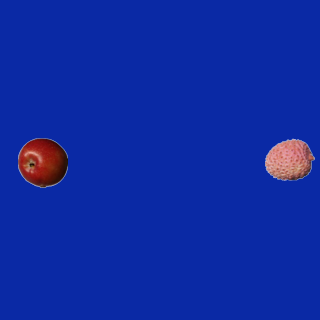Apple Braeburn: (17, 137, 67, 187)
Lychee: (264, 134, 314, 184)
